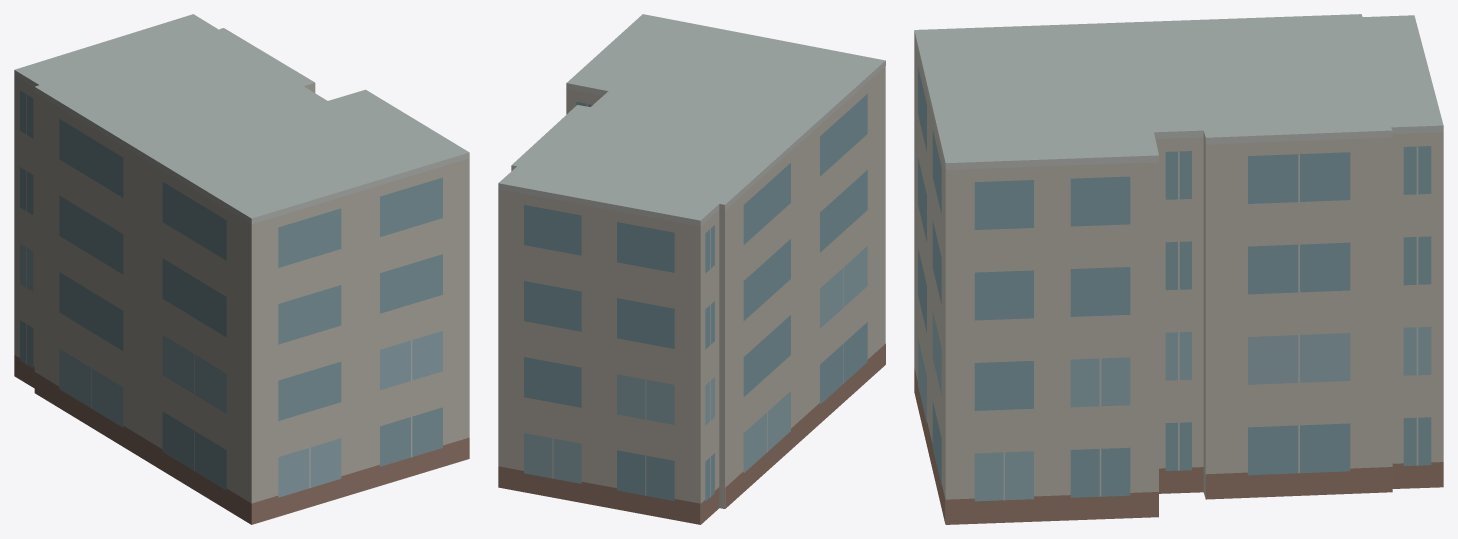
Rendered from survey-upis-32663246.glb.
3 renders of one model, left to right at view 1: azimuth 30°, elevation 25°; view 2: azimuth 150°, elevation 25°; view 3: azimuth 270°, elevation 25°, orthographic. The views are drawn at different scales.
Visible parts, largest first — view 1: survey-upis-32663246.tmp; view 2: survey-upis-32663246.tmp; view 3: survey-upis-32663246.tmp.
Part boxes in pixels (x1=…): survey-upis-32663246.tmp: x1=14, y1=14, x2=469, y2=524; survey-upis-32663246.tmp: x1=498, y1=14, x2=885, y2=524; survey-upis-32663246.tmp: x1=914, y1=14, x2=1443, y2=524.
Size of the model in its own units: 11.51 by 13 by 17.25.
